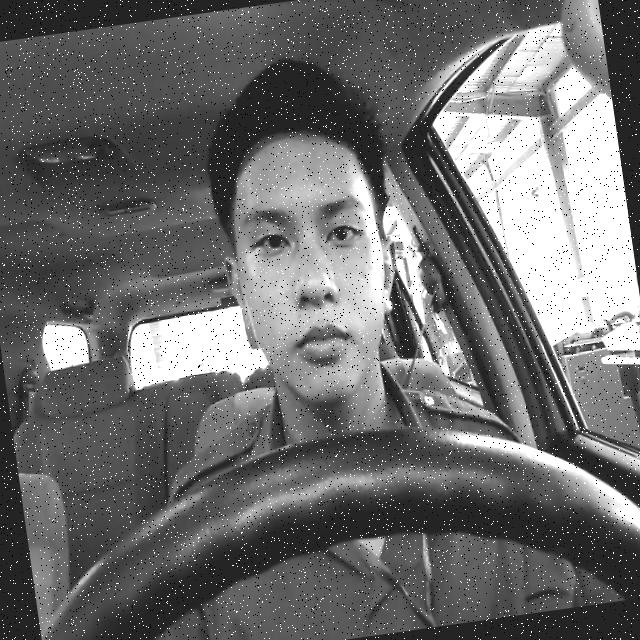focused: (205, 120, 415, 412)
